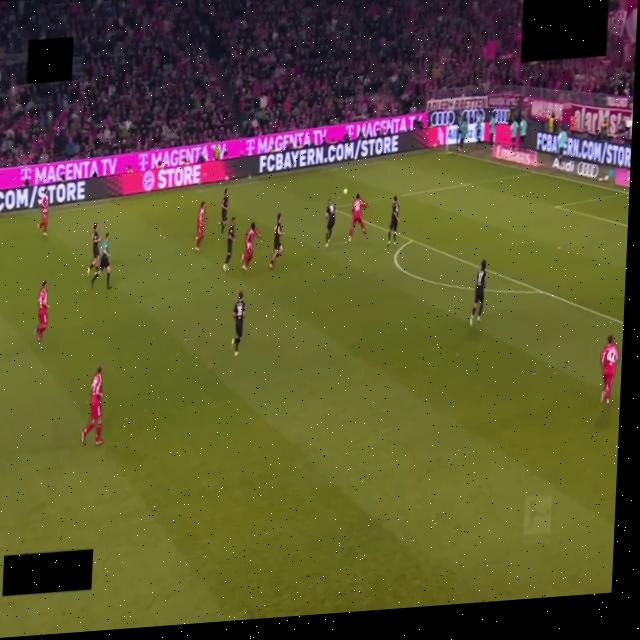ball: (343, 189, 346, 195)
player: (81, 363, 102, 445), (601, 335, 617, 403), (470, 259, 486, 325), (242, 222, 261, 270), (349, 194, 368, 241), (35, 282, 49, 343), (232, 291, 245, 356), (270, 213, 283, 268), (88, 224, 101, 274), (223, 218, 235, 270), (387, 196, 399, 246), (218, 189, 229, 236), (195, 201, 204, 251), (38, 191, 48, 235), (326, 199, 335, 246)
referee: (91, 232, 111, 289)
